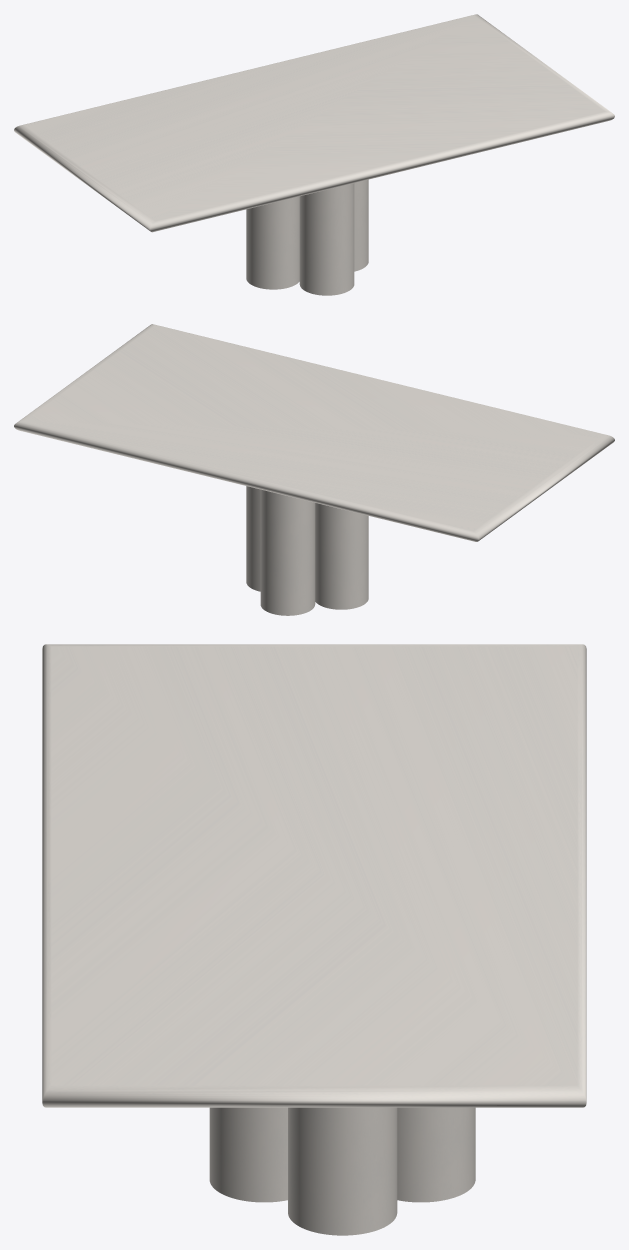
Rendered from pearlwhite_recta_round_secondtable.glb.
3 renders of one model, top to bottom at view 1: azimuth 30°, elevation 25°; view 2: azimuth 150°, elevation 25°; view 3: azimuth 270°, elevation 25°, orthographic. The views are drawn at different scales.
Visible parts, largest first — view 1: round_recta, secondtable; view 2: round_recta, secondtable; view 3: round_recta, secondtable.
Boxes of the visible parts, box(x1,y1,x2,y2) form: round_recta: box(14, 14, 614, 232); secondtable: box(246, 179, 368, 295); round_recta: box(14, 324, 614, 541); secondtable: box(246, 486, 368, 615); round_recta: box(42, 644, 586, 1107); secondtable: box(209, 1107, 475, 1235).
Size of the model in its own units: 7.76 by 2.5 by 3.93.
Materials: 1 (1 with a texture image).
